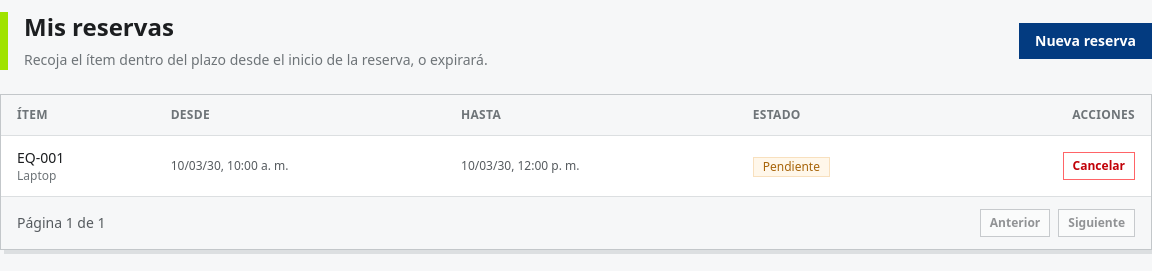
Test: MyReservationsPage › cancela una reserva pendiente y recarga la lista
Click the button with aria-label "Cancelar reserva de EQ-001".
click(1099, 166)  # box [1063, 152, 1135, 180]
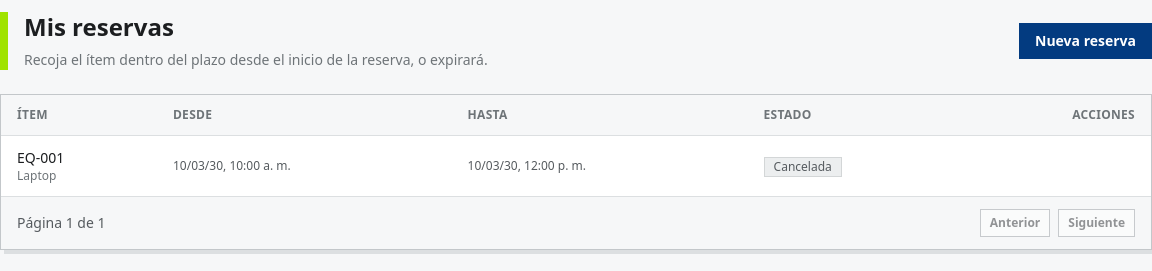
Check: the text "Cancelada" is shown, box [764, 156, 842, 176]
